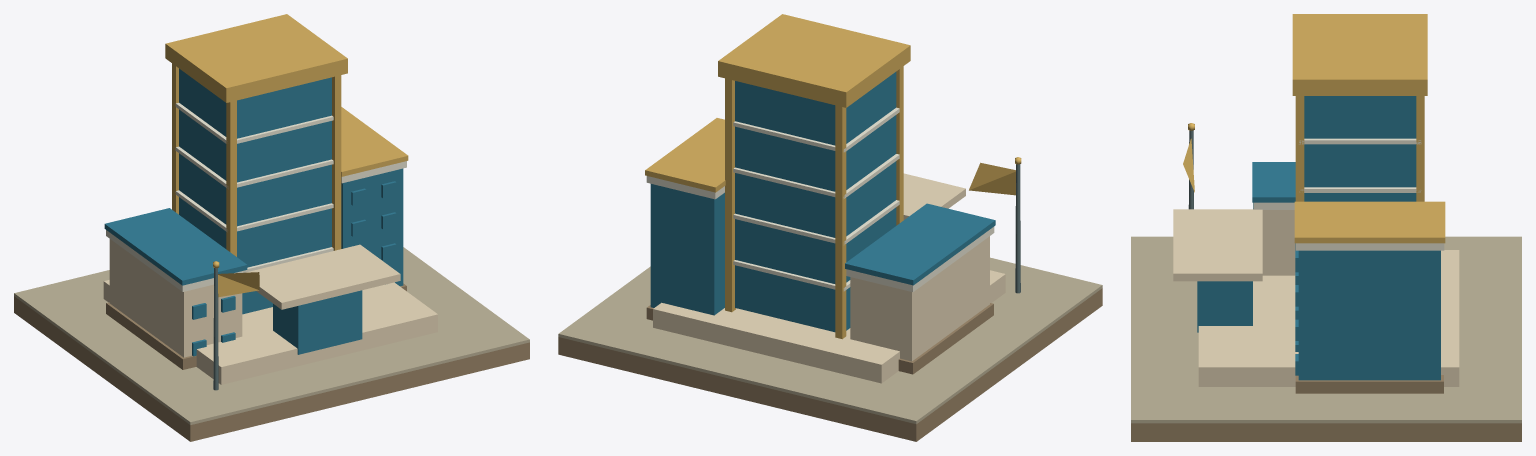
Rendered from club-headquarters-lv3.glb.
The picture shows the model from 3 angles, left to right: view 1: azimuth 30°, elevation 25°; view 2: azimuth 150°, elevation 25°; view 3: azimuth 270°, elevation 25°; orthographic projection. The views are drawn at different scales.
Visible parts, largest first — view 1: foundation_paving, office_tower_glass, tower_crown_gold, foundation_stoneDark, headquarters_plinth_cream, office_wing_cream, office_wing_roof_glass, entrance_canopy_cream, tower_mullions_gold, secondary_tower_glass, entrance_lobby_glass, floor_bands_white (+7 smaller); view 2: office_tower_glass, foundation_paving, tower_crown_gold, foundation_stoneDark, office_wing_cream, headquarters_plinth_cream, secondary_tower_glass, office_wing_roof_glass, tower_mullions_gold, floor_bands_white, secondary_tower_roof_gold, entrance_canopy_cream (+5 smaller); view 3: foundation_paving, secondary_tower_glass, tower_crown_gold, office_tower_glass, headquarters_plinth_cream, foundation_stoneDark, entrance_canopy_cream, secondary_tower_roof_gold, entrance_lobby_glass, office_wing_cream, secondary_tower_stoneDark, tower_mullions_gold (+4 smaller).
Boxes of the visible parts, bbox=[...] form: foundation_paving: bbox=[14, 247, 529, 424]; office_tower_glass: bbox=[179, 68, 331, 314]; tower_crown_gold: bbox=[165, 14, 347, 102]; foundation_stoneDark: bbox=[14, 296, 529, 441]; headquarters_plinth_cream: bbox=[103, 280, 437, 384]; office_wing_cream: bbox=[109, 239, 242, 357]; office_wing_roof_glass: bbox=[104, 208, 247, 285]; entrance_canopy_cream: bbox=[246, 244, 400, 309]; tower_mullions_gold: bbox=[172, 63, 341, 256]; secondary_tower_glass: bbox=[341, 168, 403, 286]; entrance_lobby_glass: bbox=[273, 290, 362, 354]; floor_bands_white: bbox=[175, 103, 333, 272]; office_tower_glass: bbox=[735, 72, 896, 332]; foundation_paving: bbox=[558, 257, 1102, 424]; tower_crown_gold: bbox=[718, 14, 910, 107]; foundation_stoneDark: bbox=[558, 288, 1102, 441]; office_wing_cream: bbox=[850, 236, 989, 361]; headquarters_plinth_cream: bbox=[653, 270, 1005, 383]; secondary_tower_glass: bbox=[650, 184, 724, 315]; office_wing_roof_glass: bbox=[845, 203, 995, 285]; tower_mullions_gold: bbox=[725, 66, 903, 339]; floor_bands_white: bbox=[733, 107, 899, 291]; secondary_tower_roof_gold: bbox=[645, 118, 725, 192]; entrance_canopy_cream: bbox=[903, 173, 965, 219]; foundation_paving: bbox=[1131, 236, 1521, 423]; secondary_tower_glass: bbox=[1298, 250, 1440, 380]; tower_crown_gold: bbox=[1292, 14, 1427, 95]; office_tower_glass: bbox=[1304, 96, 1416, 201]; headquarters_plinth_cream: bbox=[1198, 250, 1459, 386]; foundation_stoneDark: bbox=[1131, 423, 1521, 441]; entrance_canopy_cream: bbox=[1173, 209, 1262, 281]; secondary_tower_roof_gold: bbox=[1294, 201, 1445, 243]; entrance_lobby_glass: bbox=[1197, 281, 1252, 332]; office_wing_cream: bbox=[1262, 210, 1295, 275]; secondary_tower_stoneDark: bbox=[1295, 375, 1443, 393]; tower_mullions_gold: bbox=[1295, 96, 1424, 201].
Bounding box in the file's own units: 1 × 0.7708 × 0.9.
